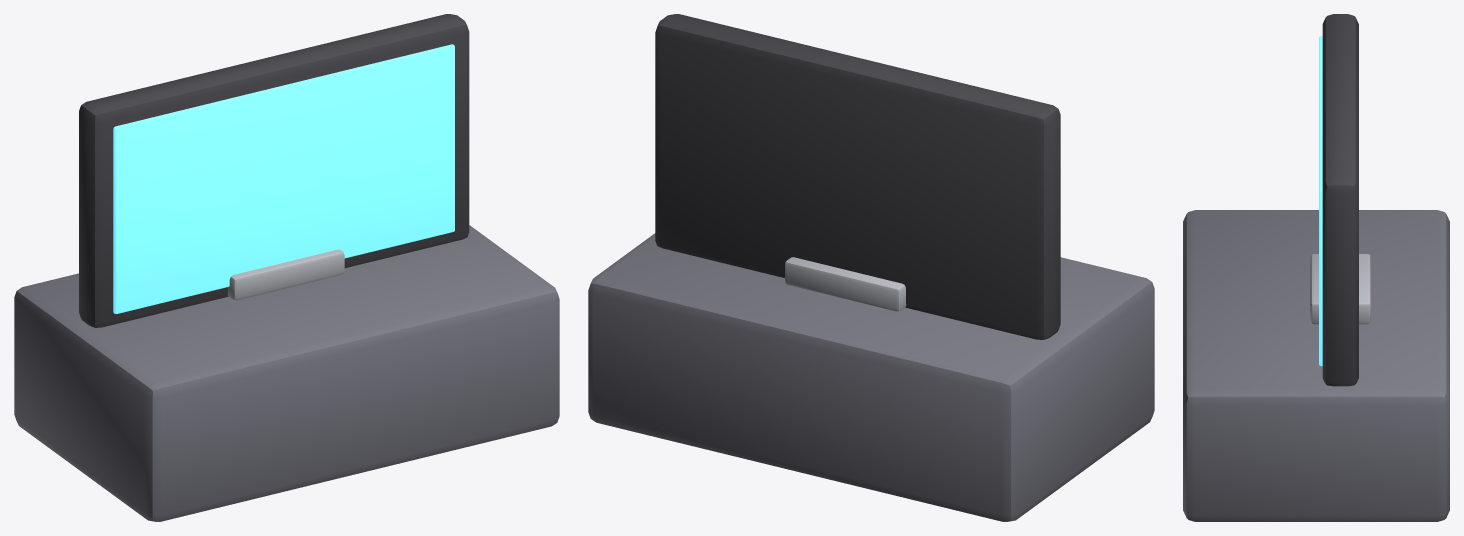
The model's file is prop_tv.glb.
The picture shows the model from 3 angles, left to right: view 1: azimuth 30°, elevation 25°; view 2: azimuth 150°, elevation 25°; view 3: azimuth 270°, elevation 25°; orthographic projection. The views are drawn at different scales.
Visible parts, largest first — view 1: tv; view 2: tv; view 3: tv.
Part boxes in pixels (bbox=[...]): tv: bbox=[14, 14, 559, 521]; tv: bbox=[588, 14, 1154, 521]; tv: bbox=[1183, 14, 1449, 521].
Bounding box in the file's own units: 37 × 30.5 × 22.
